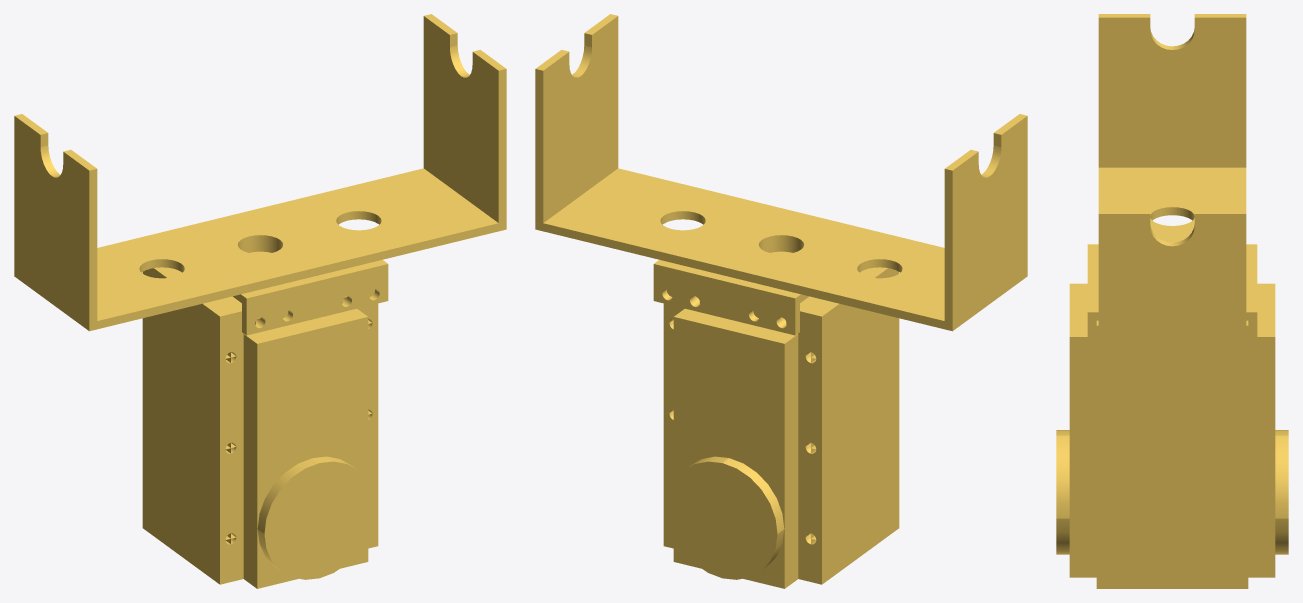
3 views of the same model, side by side, from view 1: azimuth 30°, elevation 25°; view 2: azimuth 150°, elevation 25°; view 3: azimuth 270°, elevation 25° (orthographic).
Visible parts, largest first — view 1: FR08-H110, group_3, group_2, group_1, FR05-S101; view 2: FR08-H110, group_3, group_2, group_1, FR05-S101; view 3: FR08-H110 (×2), group_3, group_2, group_1, FR05-S101.
Part boxes in pixels (left/top/right/bottom): FR08-H110: left=14, top=14, right=506, bottom=331; group_3: left=142, top=251, right=378, bottom=584; group_2: left=243, top=308, right=368, bottom=588; group_1: left=257, top=456, right=374, bottom=579; FR05-S101: left=233, top=260, right=388, bottom=335; FR08-H110: left=535, top=14, right=1027, bottom=331; group_3: left=663, top=251, right=899, bottom=584; group_2: left=673, top=308, right=798, bottom=588; group_1: left=667, top=456, right=784, bottom=579; FR05-S101: left=653, top=260, right=808, bottom=335; FR08-H110 (×2): left=1098, top=14, right=1246, bottom=371; group_3: left=1096, top=320, right=1248, bottom=588; group_2: left=1069, top=283, right=1275, bottom=577; group_1: left=1056, top=430, right=1288, bottom=554; FR05-S101: left=1087, top=244, right=1257, bottom=348.
Bounding box in the file's own units: 4.17 × 2.05 × 4.25.
